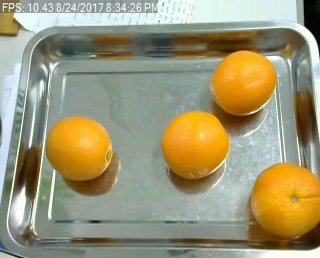Orange: (250, 163, 320, 237), (161, 110, 230, 178), (209, 49, 278, 115), (45, 114, 113, 179)
